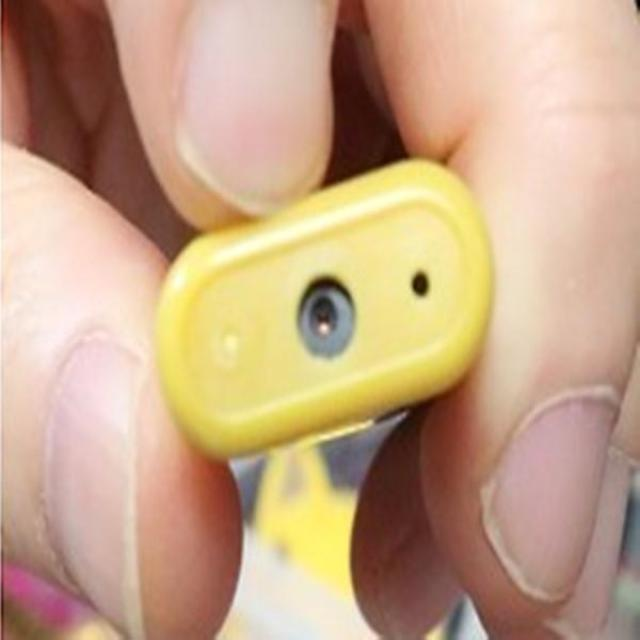hidden camera: (290, 267, 364, 362)
